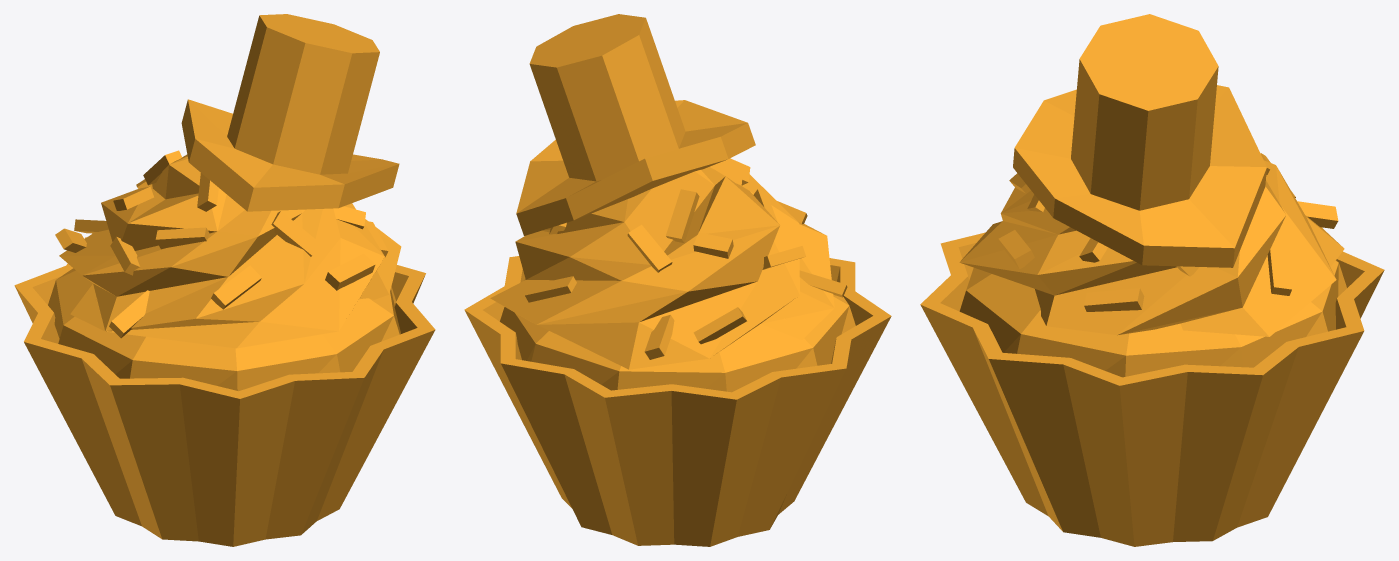
Rendered from SM_Cupcake_4july_B.fbx.
The picture shows the model from 3 angles, left to right: view 1: azimuth 30°, elevation 25°; view 2: azimuth 150°, elevation 25°; view 3: azimuth 270°, elevation 25°; orthographic projection. The views are drawn at different scales.
Parts seen in each view (by area): view 1: cupcake-4july-b; view 2: cupcake-4july-b; view 3: cupcake-4july-b.
Part boxes in pixels (left/top/right/bottom): cupcake-4july-b: left=14, top=14, right=435, bottom=546; cupcake-4july-b: left=464, top=14, right=891, bottom=546; cupcake-4july-b: left=920, top=14, right=1384, bottom=546.
Size of the model in its own units: 0.0986 by 0.1167 by 0.0981.
